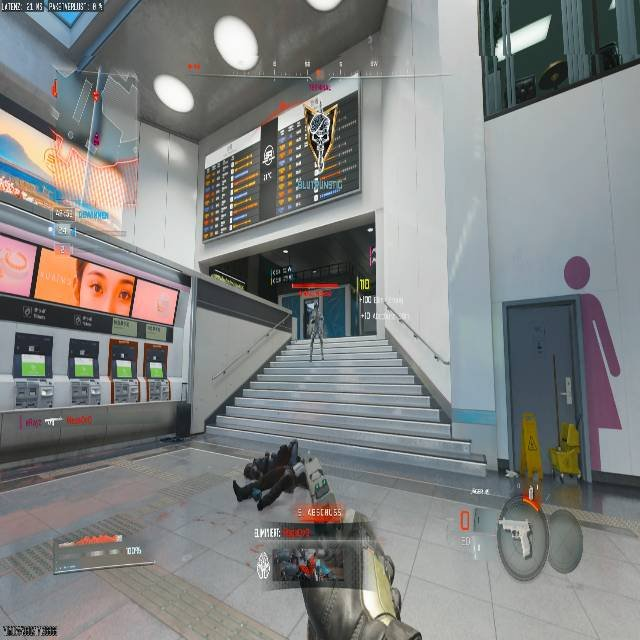player: (234, 443, 423, 638)
